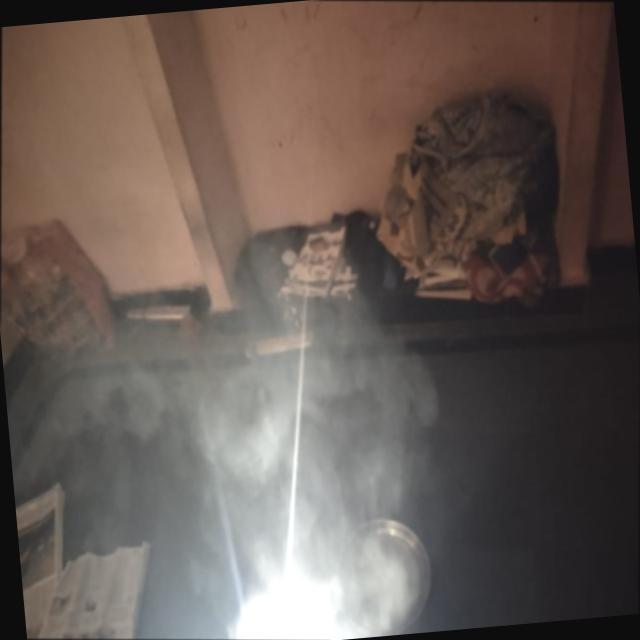smoke: (166, 401, 421, 640)
